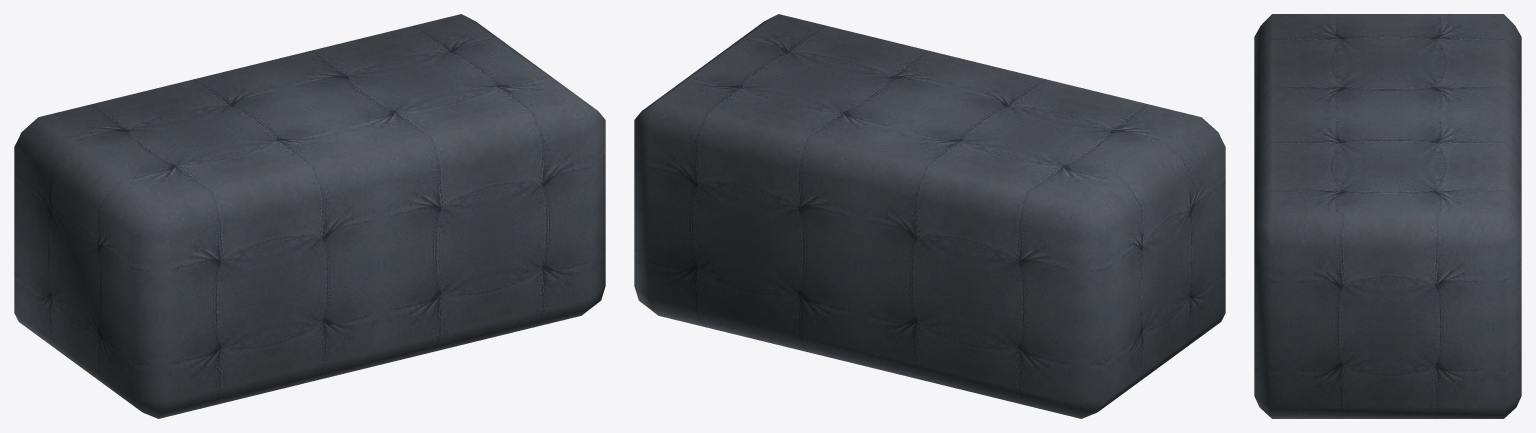
Rendered from Tyrebox.FBX.
The picture shows the model from 3 angles, left to right: view 1: azimuth 30°, elevation 25°; view 2: azimuth 150°, elevation 25°; view 3: azimuth 270°, elevation 25°; orthographic projection. The views are drawn at different scales.
Parts seen in each view (by area): view 1: Tyrebox; view 2: Tyrebox; view 3: Tyrebox.
Boxes of the visible parts, x1,y1,x2,y2 form: Tyrebox: [14, 14, 605, 418]; Tyrebox: [634, 14, 1225, 418]; Tyrebox: [1254, 14, 1521, 418].
Bounding box in the file's own units: 180 × 78.21 × 92.08.
Materials: 1 (1 with a texture image).
